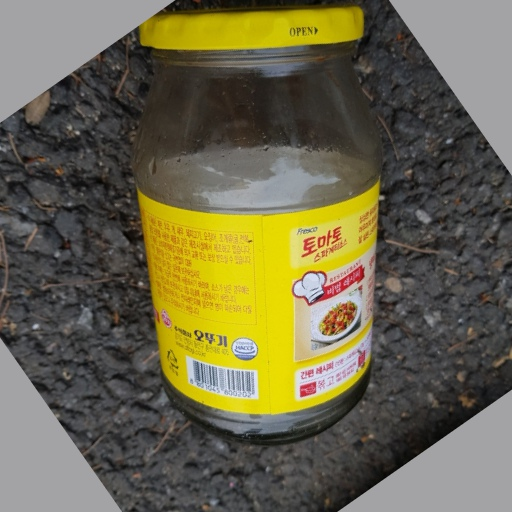Glass_5: (131, 10, 378, 447)
